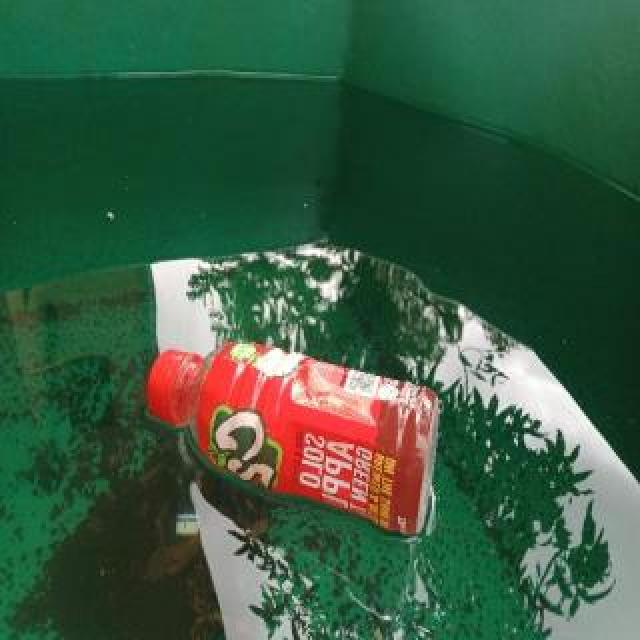Bottle: (144, 347, 445, 539)
